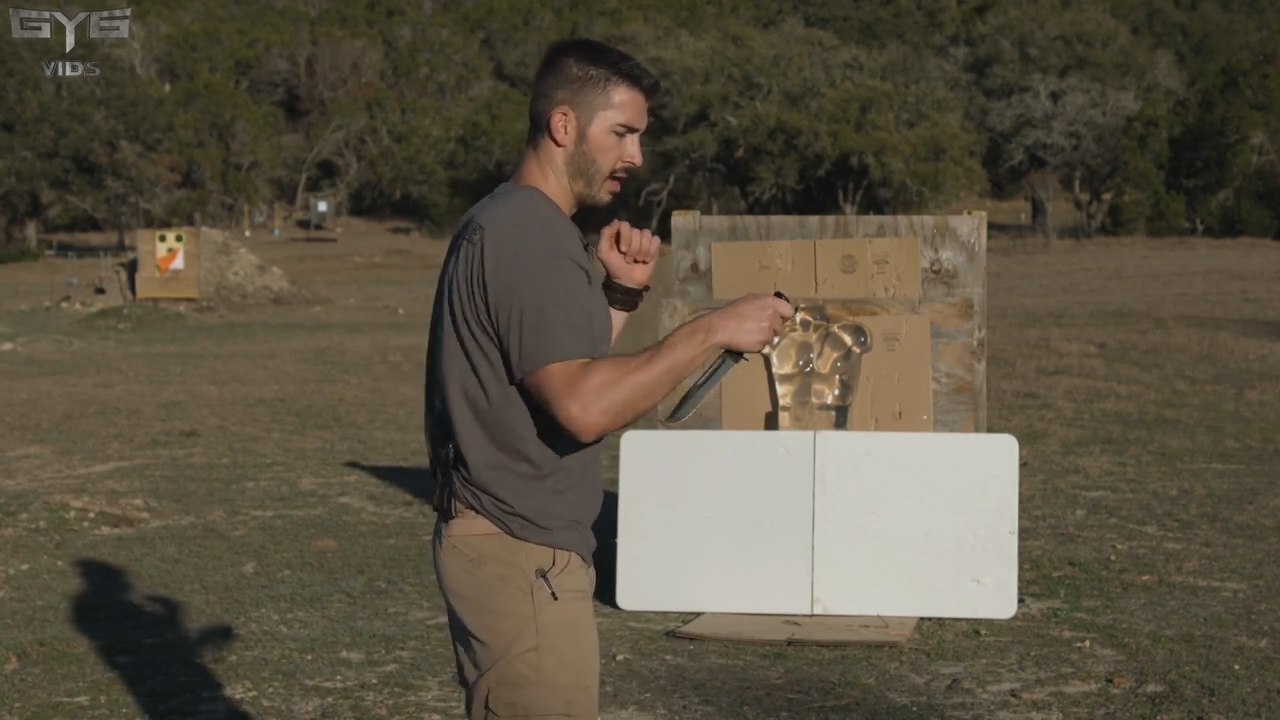knife: (647, 288, 792, 427)
